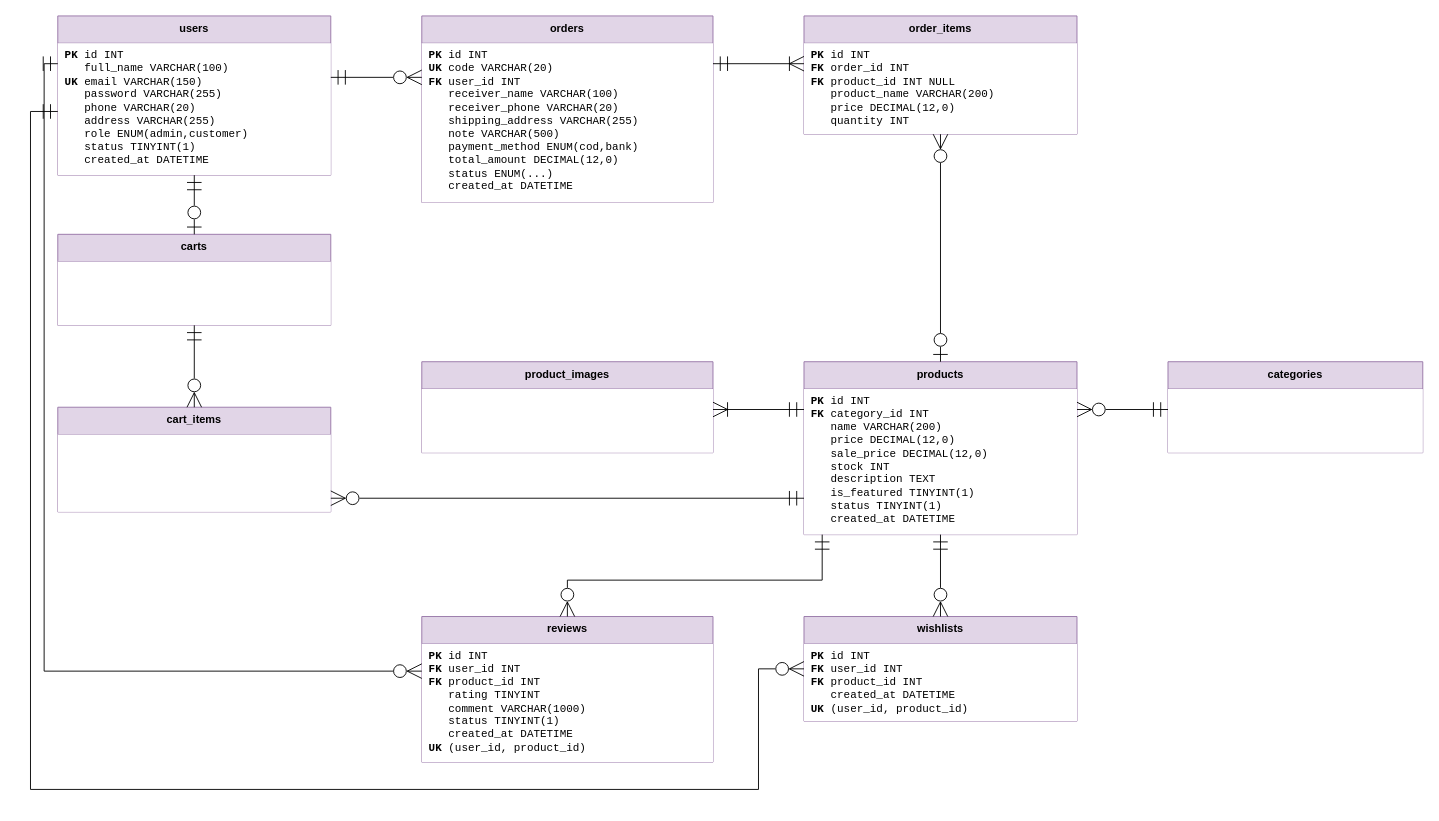
This 1439x821 diagram has some shape labels left out. Here are the shapes that lost their labels. From the top down, the centre of each, then its label:
At point 193,293: "PK id INT FK,UK user_id INT created_at DATETIME updated_at DATETIME".
At point 567,420: "PK id INT FK product_id INT image_path VARCHAR(255) is_main TINYINT(1)".
At point 1295,420: "PK id INT name VARCHAR(100) description VARCHAR(255) status TINYINT(1)".
At point 193,472: "PK id INT FK cart_id INT FK product_id INT quantity INT UK (cart_id, product_id)".
